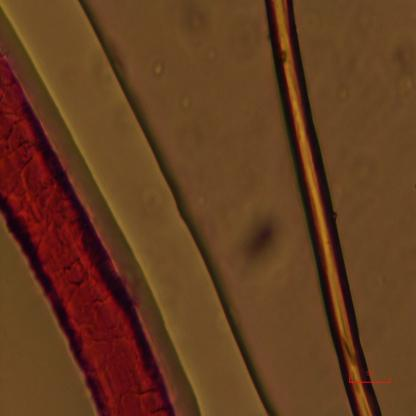Air bubble: (1, 0, 272, 416)
Background material: (235, 202, 287, 273), (153, 56, 168, 77)
Hair textile: (0, 49, 176, 415)
Microfibre: (265, 0, 382, 415)
